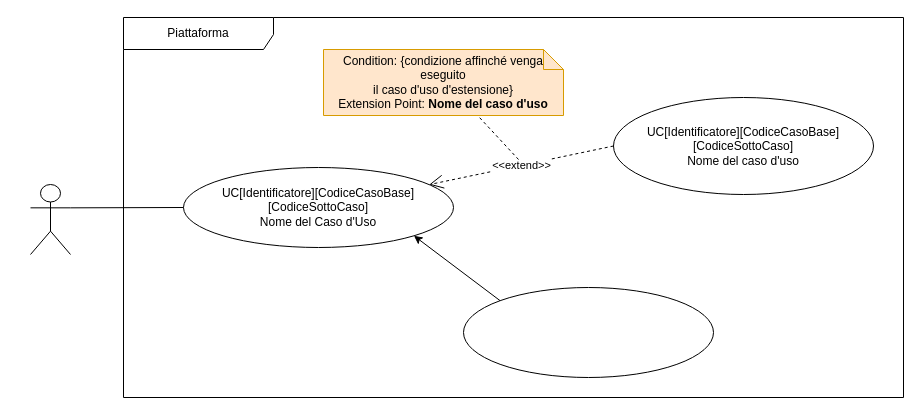
Some shapes in this 921 by 415 pixel diagram are drawn without their labels. The box of each missing label's shape, as (x1, y1, x2, y2) in pixels:
Nome Attore: (30, 184, 70, 254)
UC[Identificatore][CodiceCasoBase][CodiceSottoCaso] Nome del sottocaso: (462, 286, 714, 378)
